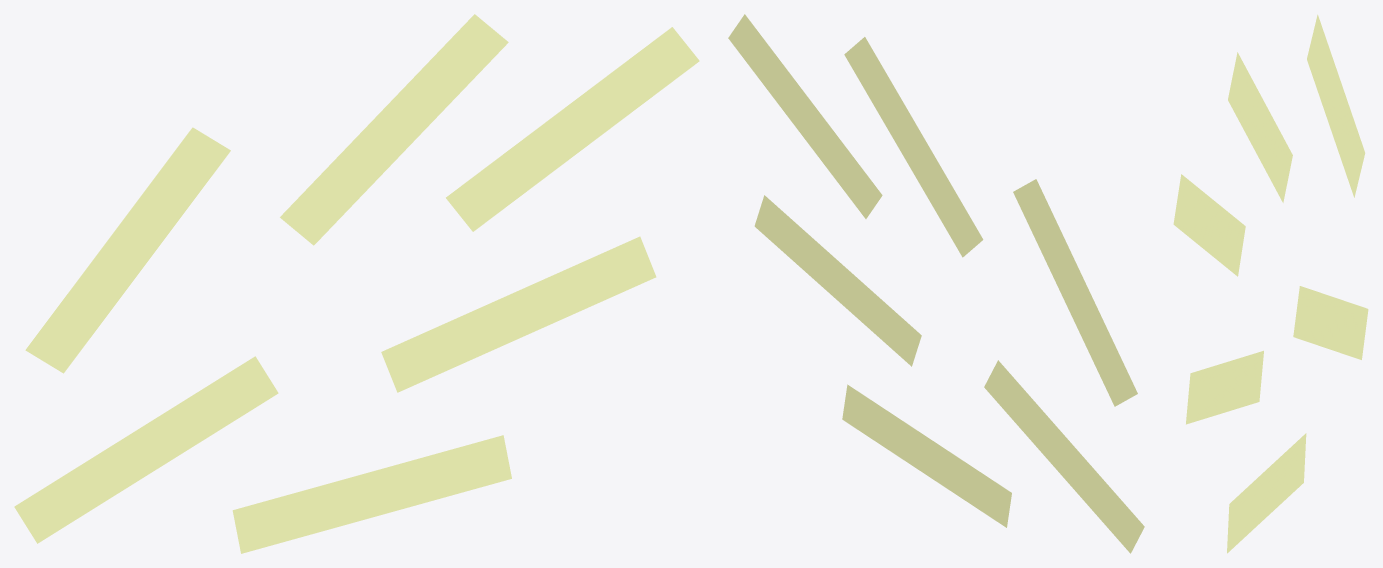
The model's file is Sparks_Attachment.glb.
3 views of the same model, side by side, from view 1: azimuth 30°, elevation 25°; view 2: azimuth 150°, elevation 25°; view 3: azimuth 270°, elevation 25° (orthographic). The views are drawn at different scales.
Visible parts, largest first — view 1: SPARKS; view 2: SPARKS; view 3: SPARKS.
Part boxes in pixels (x1,y1,x2,y2): SPARKS: (14, 14, 699, 553); SPARKS: (728, 14, 1144, 553); SPARKS: (1173, 14, 1368, 553).
Bounding box in the file's own units: 0.6756 × 0.5612 × 0.1861.
